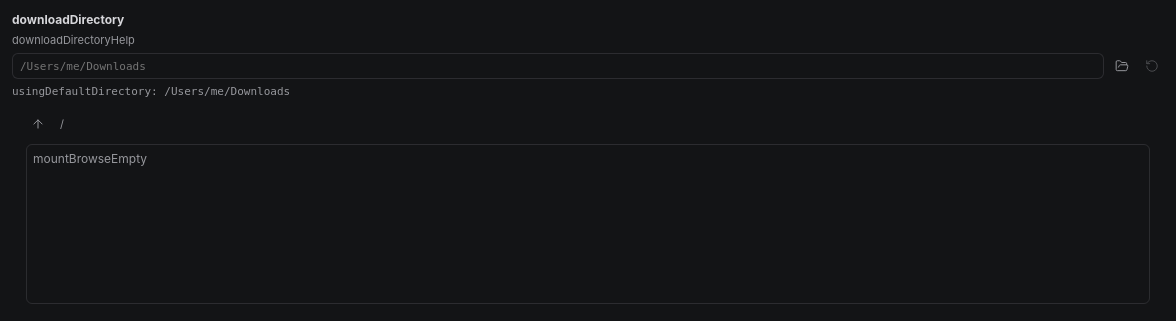
it: SettingsPanel downloads section (collective save) › fills the draft from the host directory picker; path persists on save()
Click the button titled "chooseDirectory" at coordinates (1122, 66), box [1110,54,1134,78]
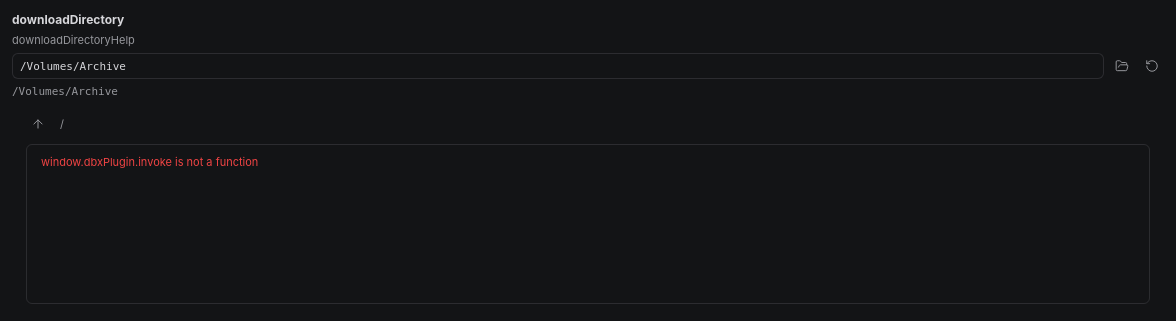
Check: the field named "downloadDirectory" holds "/Volumes/Archive", box [12,53,1104,79]
